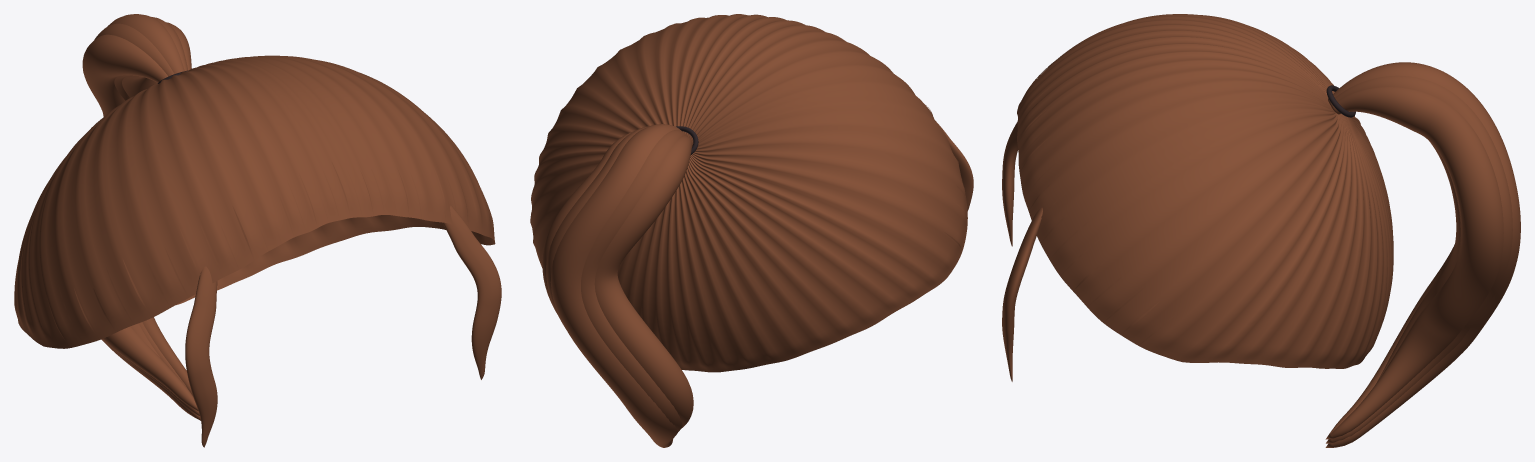
Rendered from Feminine-ponytail-hair.glb.
The picture shows the model from 3 angles, left to right: view 1: azimuth 30°, elevation 25°; view 2: azimuth 150°, elevation 25°; view 3: azimuth 270°, elevation 25°; orthographic projection. The views are drawn at different scales.
Parts seen in each view (by area): view 1: Hair / pulled roots217, Hair / rounded tail217 0, Hair / adjustable front216 -1, Hair / adjustable front216 1, Hair / brushed edge217, Hair / rounded tail217 2, Hair / rounded tail217 1, Hair / rounded tail217 4, Hair / rounded tail217 3; view 2: Hair / pulled roots217, Hair / rounded tail217 2, Hair / rounded tail217 0, Hair / rounded tail217 1, Hair / rounded tail217 3, Hair / rounded tail217 4, Hair / adjustable front216 -1; view 3: Hair / pulled roots217, Hair / rounded tail217 4, Hair / rounded tail217 2, Hair / rounded tail217 3, Hair / adjustable front216 1, Hair / brushed edge217, Hair / adjustable front216 -1, Hair / rounded tail217 0.
Part boxes in pixels (bbox=[...]): Hair / pulled roots217: bbox=[14, 55, 495, 348]; Hair / rounded tail217 0: bbox=[82, 34, 198, 410]; Hair / adjustable front216 -1: bbox=[185, 266, 217, 447]; Hair / adjustable front216 1: bbox=[442, 205, 501, 379]; Hair / brushed edge217: bbox=[47, 160, 493, 346]; Hair / rounded tail217 2: bbox=[101, 14, 200, 420]; Hair / rounded tail217 1: bbox=[94, 23, 199, 415]; Hair / rounded tail217 4: bbox=[142, 22, 192, 395]; Hair / rounded tail217 3: bbox=[139, 17, 188, 387]; Hair / pulled roots217: bbox=[530, 14, 967, 372]; Hair / rounded tail217 2: bbox=[550, 124, 681, 447]; Hair / rounded tail217 0: bbox=[594, 136, 693, 428]; Hair / rounded tail217 1: bbox=[581, 130, 687, 439]; Hair / rounded tail217 3: bbox=[546, 126, 648, 326]; Hair / rounded tail217 4: bbox=[542, 131, 634, 312]; Hair / adjustable front216 -1: bbox=[935, 120, 973, 210]; Hair / pulled roots217: bbox=[1017, 14, 1393, 368]; Hair / rounded tail217 4: bbox=[1326, 87, 1503, 439]; Hair / rounded tail217 2: bbox=[1325, 62, 1520, 447]; Hair / rounded tail217 3: bbox=[1326, 75, 1512, 443]; Hair / adjustable front216 1: bbox=[1002, 207, 1042, 381]; Hair / brushed edge217: bbox=[1020, 62, 1178, 344]; Hair / adjustable front216 -1: bbox=[1002, 122, 1018, 246]; Hair / rounded tail217 0: bbox=[1326, 244, 1454, 438].
Bounding box in the file's own units: 0.9684 × 0.8628 × 1.01.
